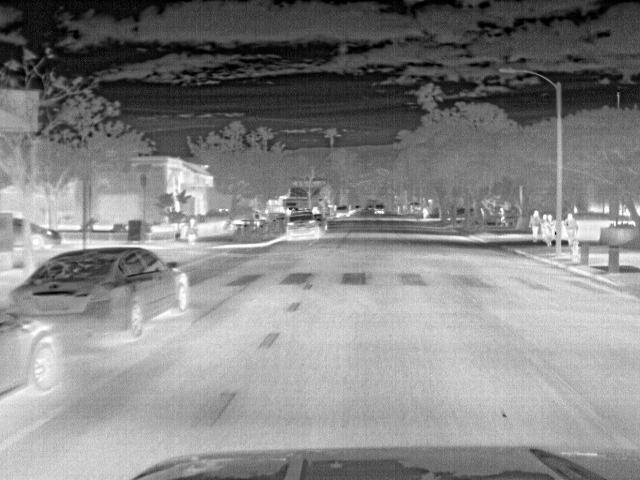car: (12, 251, 193, 348), (1, 303, 61, 407), (285, 211, 323, 243), (32, 220, 62, 250), (13, 214, 26, 248), (333, 204, 350, 220), (373, 204, 387, 216)
person: (562, 212, 580, 248), (529, 209, 543, 244), (185, 218, 199, 252), (498, 205, 511, 226)
